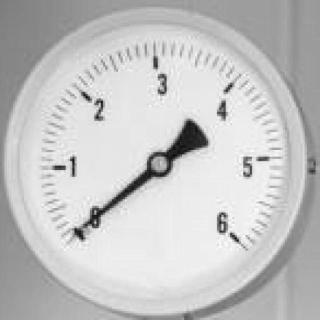gauge: (0, 0, 320, 320), (57, 201, 120, 256), (204, 207, 253, 259), (146, 151, 174, 178), (70, 222, 88, 244)
